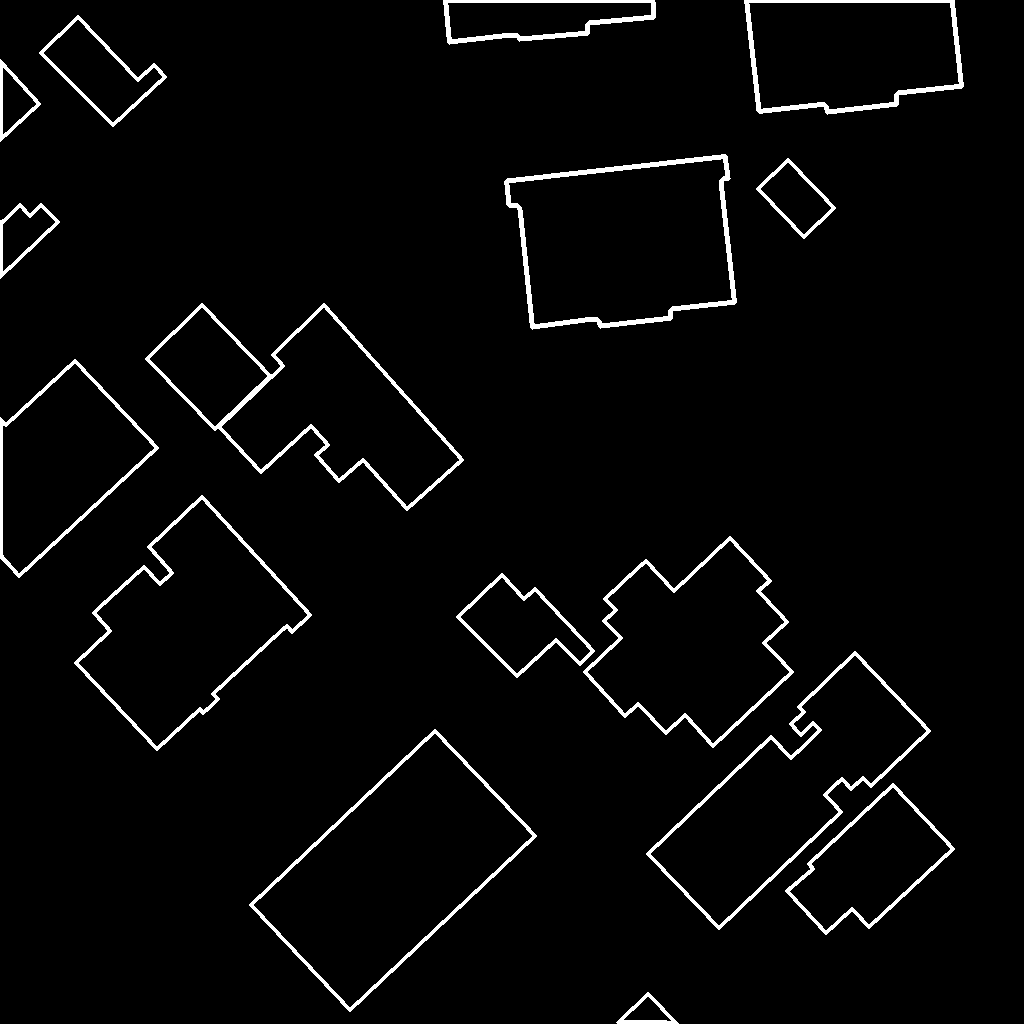building: (251, 731, 536, 1011), (648, 653, 930, 929), (76, 497, 311, 750), (219, 305, 463, 510), (585, 538, 793, 747), (506, 156, 736, 328), (0, 361, 158, 577), (787, 785, 954, 934), (746, 0, 963, 113), (147, 305, 271, 430), (458, 575, 594, 677), (41, 17, 166, 126), (445, 0, 655, 43), (758, 160, 835, 238), (0, 205, 59, 278), (0, 61, 40, 141), (618, 994, 678, 1024)
